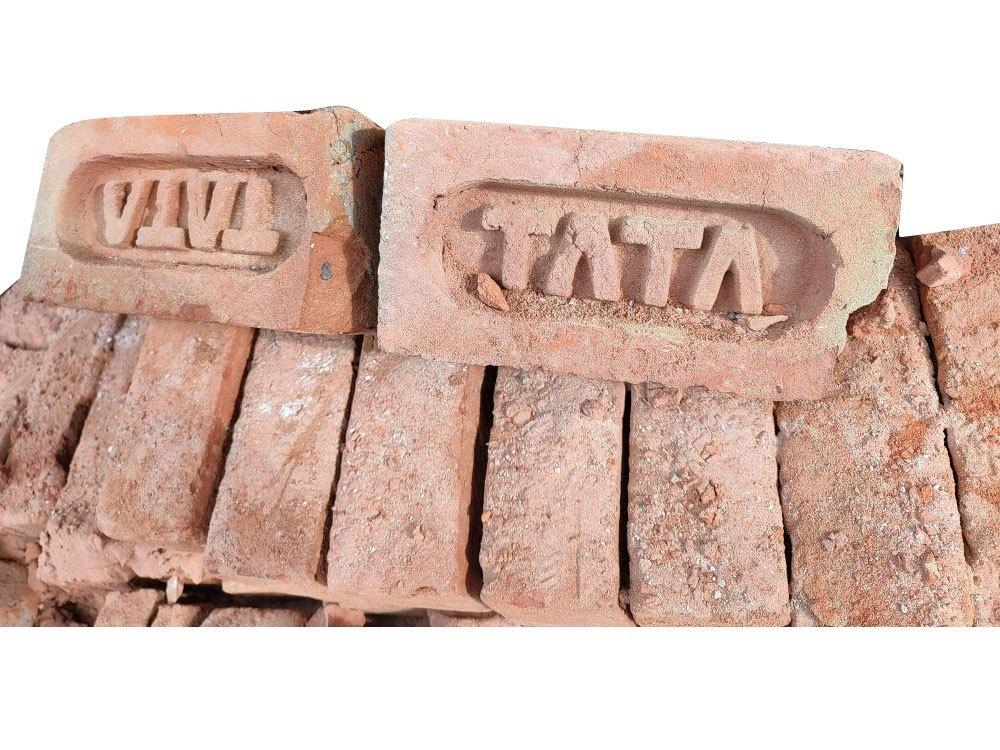brick: (382, 120, 902, 398), (20, 108, 352, 328), (786, 282, 970, 576), (58, 310, 254, 544), (328, 338, 480, 594), (210, 326, 352, 576), (630, 392, 786, 604), (482, 372, 614, 606)
